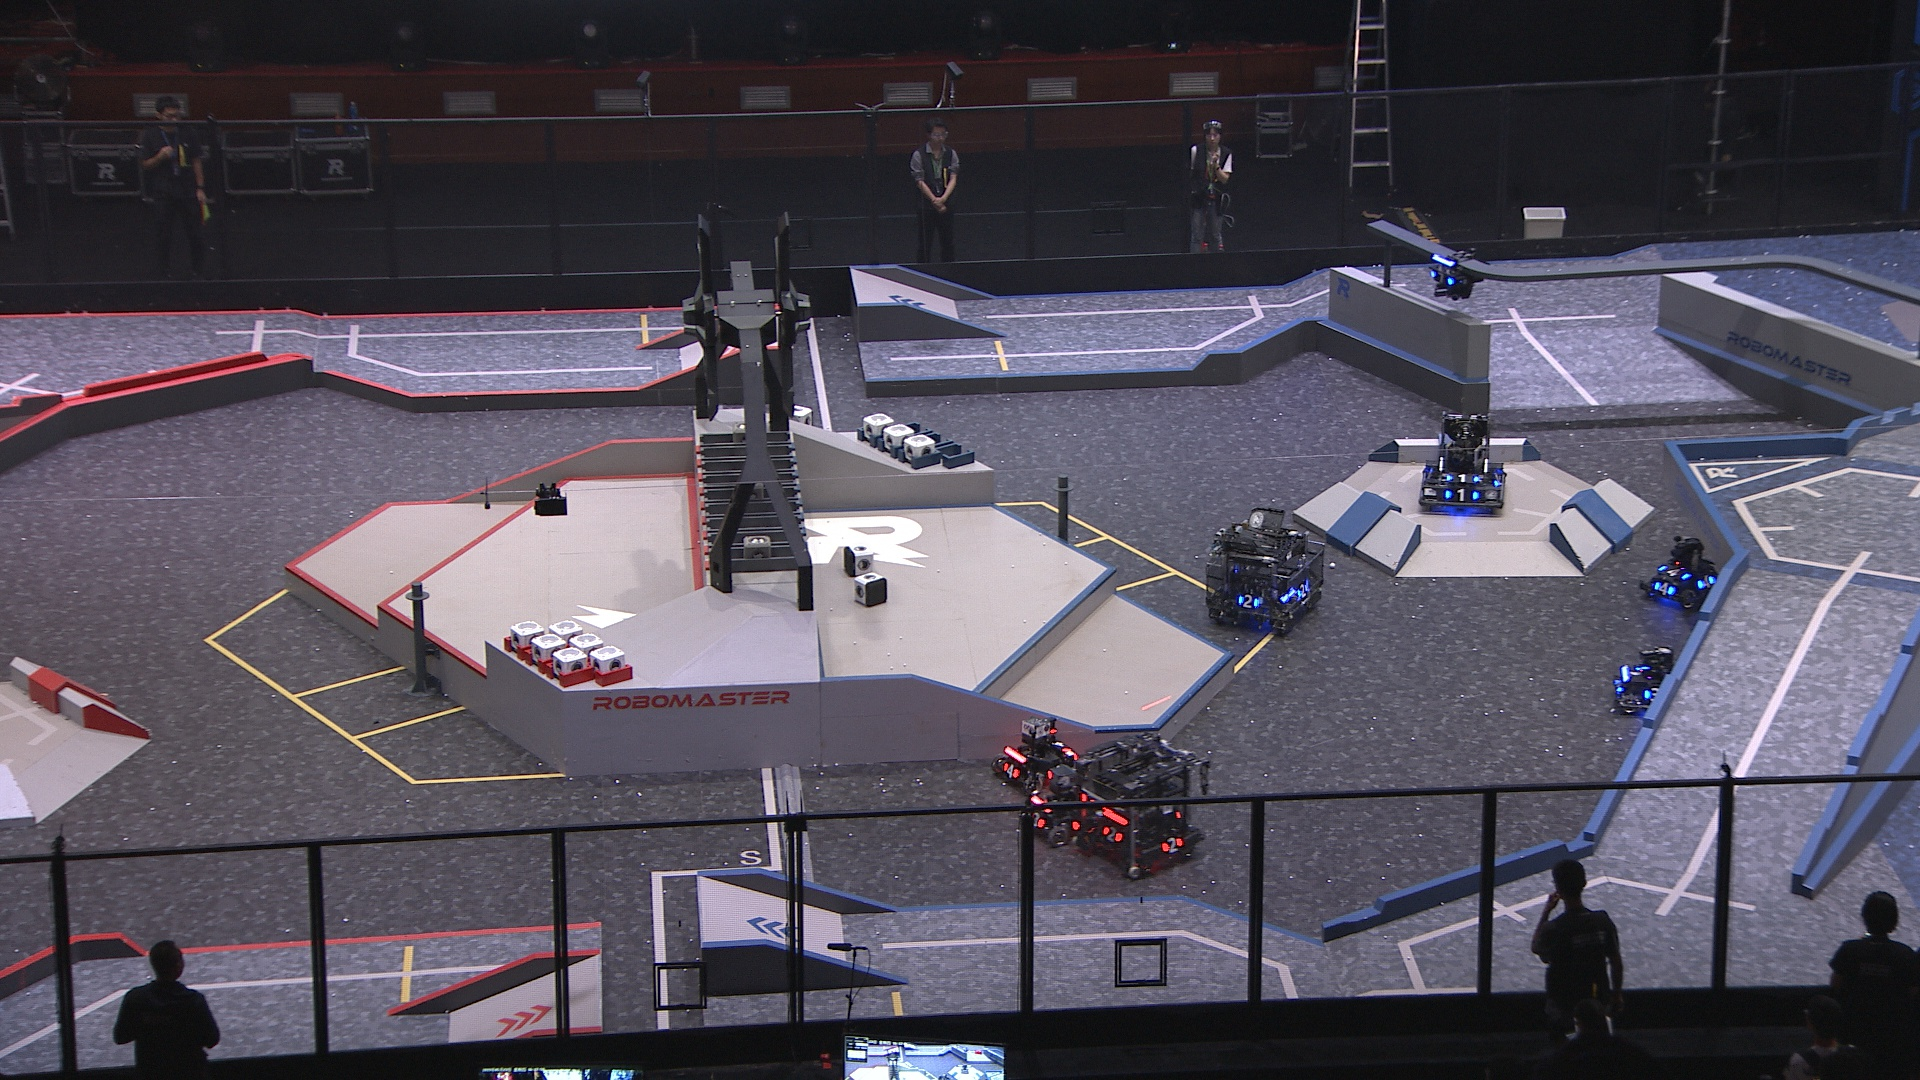armor: (1443, 488, 1481, 506), (1659, 564, 1693, 580), (1101, 823, 1126, 844), (1000, 764, 1025, 783), (1428, 270, 1455, 289), (1159, 837, 1185, 856), (1237, 593, 1263, 612), (1447, 472, 1484, 484), (1027, 812, 1048, 831), (1698, 575, 1718, 593), (1292, 582, 1313, 599), (1643, 684, 1664, 702), (1654, 583, 1676, 599), (1048, 738, 1072, 752), (1490, 469, 1505, 491), (1611, 675, 1626, 694)
car: (1072, 731, 1215, 884), (1207, 506, 1324, 640), (1415, 410, 1510, 514), (989, 716, 1083, 796), (1636, 533, 1731, 611), (1017, 765, 1100, 847), (1605, 646, 1685, 716)
watcher: (1425, 245, 1487, 301)
